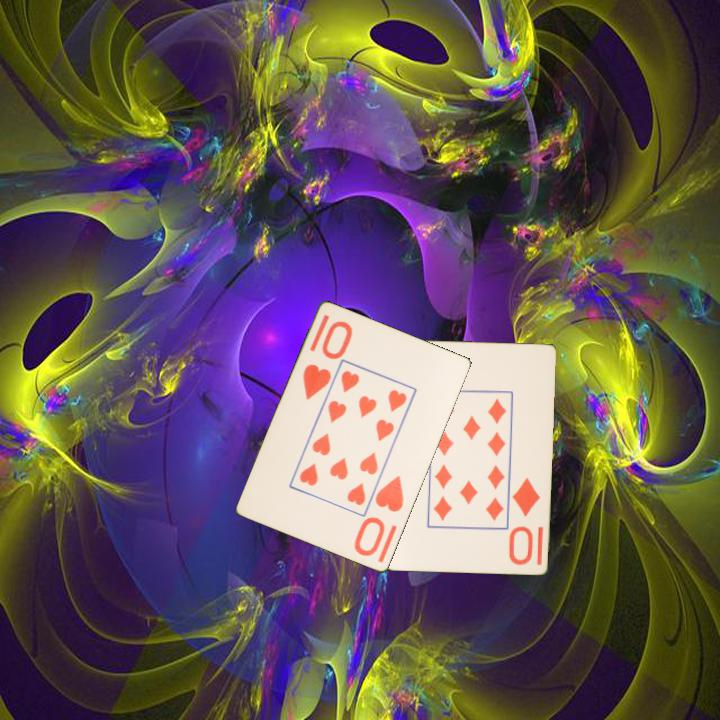10d: (507, 474, 543, 568)
10h: (351, 472, 407, 560), (299, 318, 354, 403)
